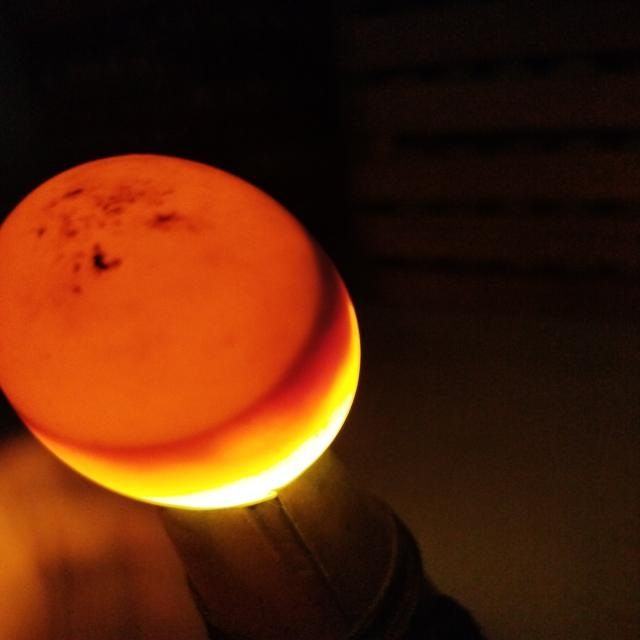Area Infectada: (255, 227, 347, 406)
